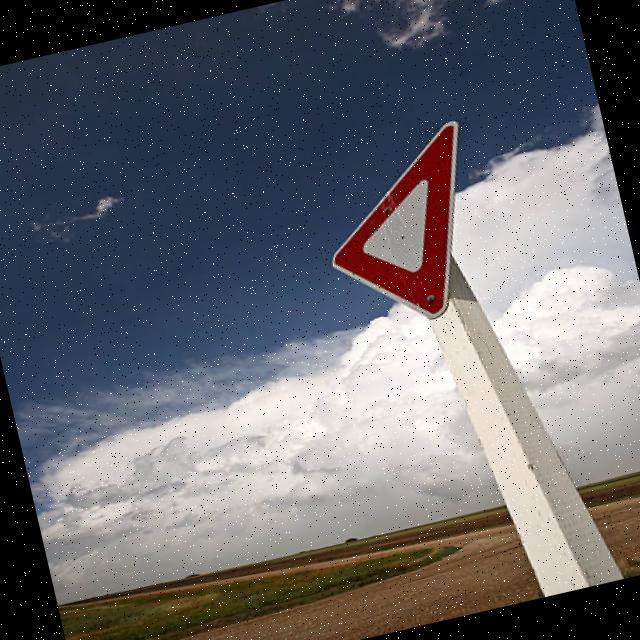give_way: (291, 111, 516, 348)
